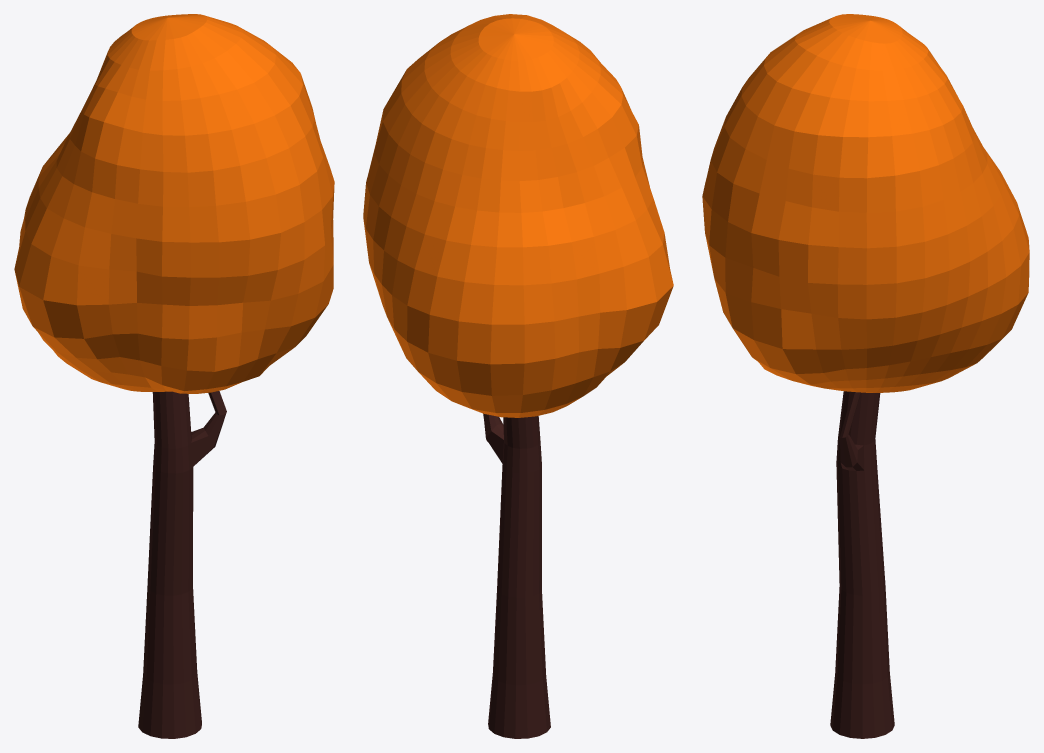
The model's file is Tree3.fbx.
3 renders of one model, left to right at view 1: azimuth 30°, elevation 25°; view 2: azimuth 150°, elevation 25°; view 3: azimuth 270°, elevation 25°, orthographic.
Parts seen in each view (by area): view 1: Tree3; view 2: Tree3; view 3: Tree3.
Boxes of the visible parts, x1,y1,x2,y2 form: Tree3: [14, 14, 334, 738]; Tree3: [363, 14, 673, 738]; Tree3: [702, 14, 1029, 738].
Bounding box in the file's own units: 1148 × 2713 × 1141.
